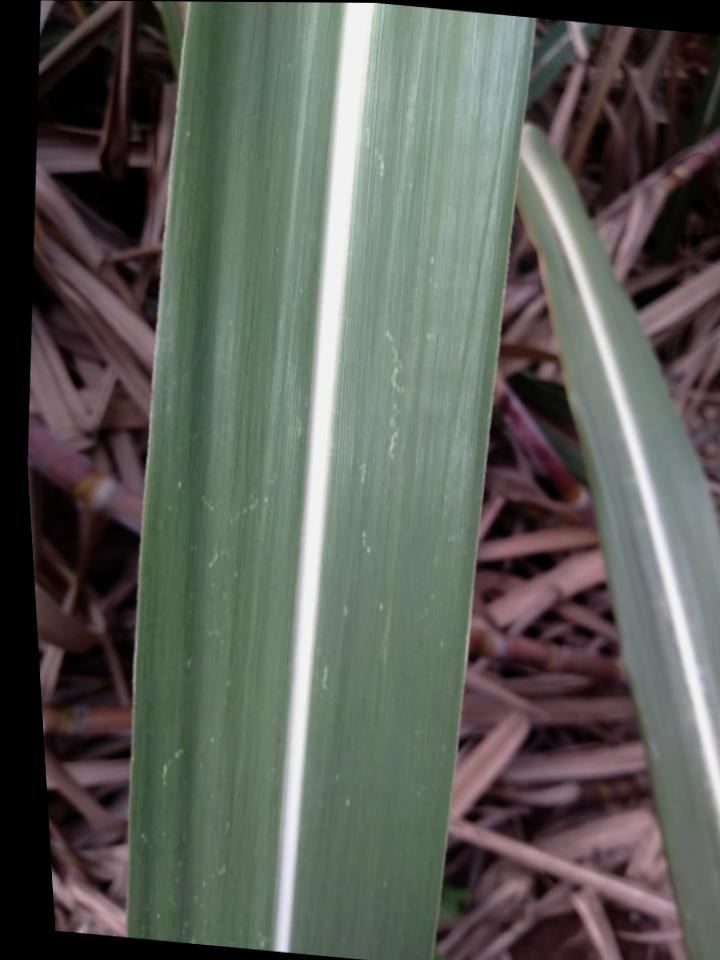Healthy: (127, 1, 537, 960), (516, 121, 720, 960)
